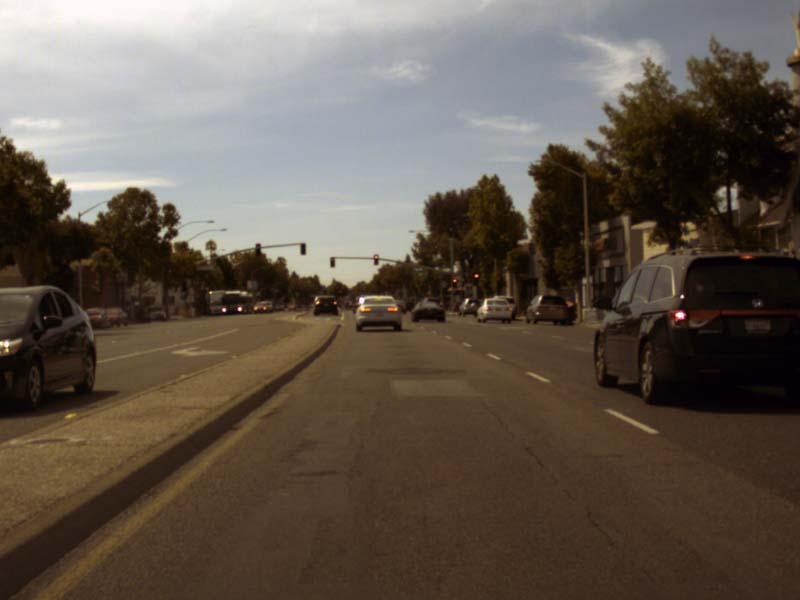Red: (473, 272, 478, 285), (373, 254, 378, 265), (452, 277, 457, 288), (329, 257, 334, 266)
